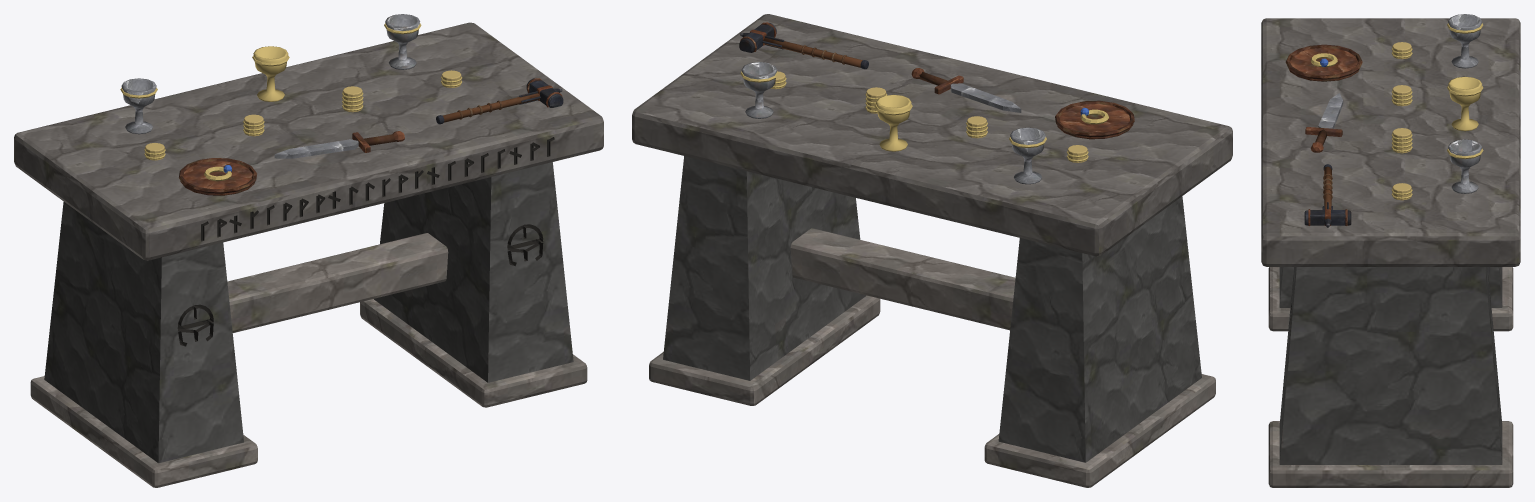
The model's file is th_offering_table.glb.
The picture shows the model from 3 angles, left to right: view 1: azimuth 30°, elevation 25°; view 2: azimuth 150°, elevation 25°; view 3: azimuth 270°, elevation 25°; orthographic projection. The views are drawn at different scales.
Parts seen in each view (by area): view 1: model; view 2: model; view 3: model.
Boxes of the visible parts, x1=… form: model: x1=14, y1=14, x2=603, y2=487; model: x1=632, y1=14, x2=1232, y2=487; model: x1=1261, y1=14, x2=1520, y2=487.
Bounding box in the file's own units: 1.4 × 0.9018 × 0.7.
14 materials, 9 textured.
